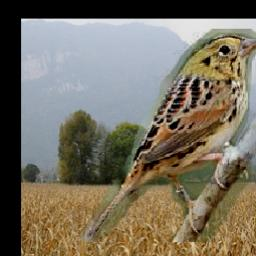Sparrow: (76, 29, 256, 242)
